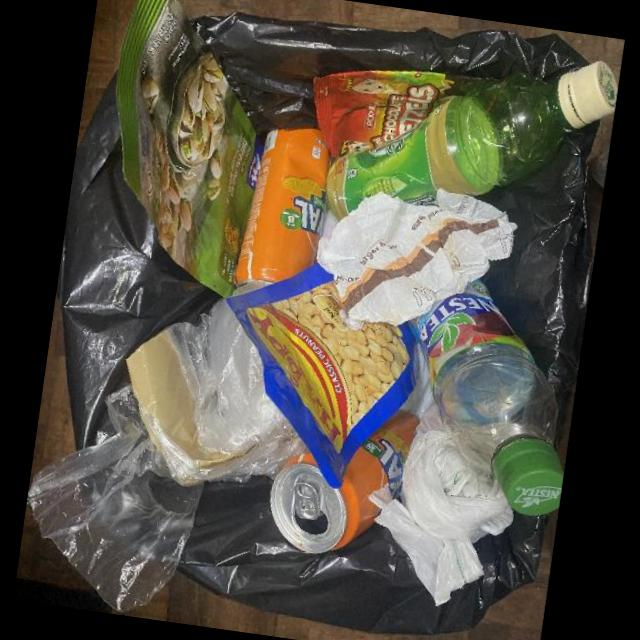bao_bi_thuc_pham: (226, 264, 427, 491), (116, 0, 268, 298), (315, 71, 486, 160)
chai_nhua: (326, 58, 618, 220)
chai_nhua_pet: (407, 279, 560, 517)
giay: (317, 188, 516, 326)
nhom: (270, 407, 420, 556), (234, 130, 333, 299)
tui_ni_long: (29, 297, 308, 612), (370, 346, 517, 602)
